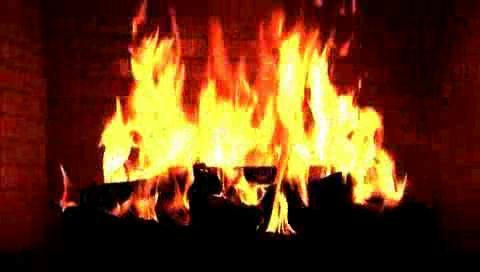fire: (99, 22, 398, 236)
